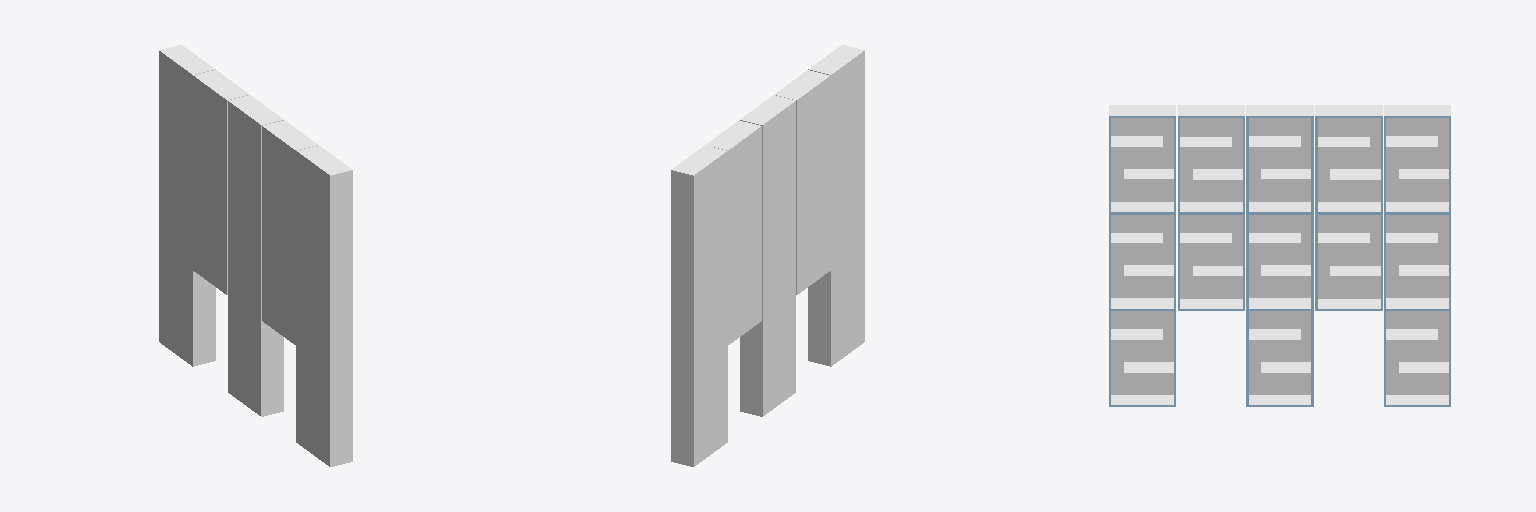
3 renders of one model, left to right at view 1: azimuth 30°, elevation 25°; view 2: azimuth 150°, elevation 25°; view 3: azimuth 270°, elevation 25°, orthographic.
Parts seen in each view (by area): view 1: 立方体.1_0_4, 立方体.1_0_2, 立方体.1_2_2, 立方体.1_1_4, 立方体.1_0_1, 立方体.1_1, 立方体.1_0, 立方体.1_1_3, 立方体.1_0_3, 立方体.1_2_1, 立方体.1_1_2, 立方体.1_1_1 (+4 smaller); view 2: 立方体.1_2_2, 立方体.1_2_1, 立方体.1_0_4, 立方体.1_2, 立方体.1_1_4, 立方体.1_0, 立方体.1_1, 立方体.1_0_3, 立方体.1_1_3, 立方体.1_1_2, 立方体.1_0_2, 立方体.1_0_1 (+4 smaller); view 3: 立方体.1_1, 立方体.1_0, 立方体.1_1_2, 立方体.1_2_1, 立方体.1_0_2, 立方体.1_1_3, 立方体.1_1_4, 立方体.1_0_3, 立方体.1_0_4, 立方体.1_2_2, 立方体.1_1_1, 立方体.1_0_1 (+4 smaller).
Part boxes in pixels (bbox=[...]): 立方体.1_0_4: bbox=[296, 346, 352, 466]; 立方体.1_0_2: bbox=[296, 249, 352, 369]; 立方体.1_2_2: bbox=[159, 244, 215, 366]; 立方体.1_1_4: bbox=[228, 294, 283, 416]; 立方体.1_0_1: bbox=[296, 145, 352, 273]; 立方体.1_1: bbox=[193, 70, 249, 198]; 立方体.1_0: bbox=[262, 120, 317, 248]; 立方体.1_1_3: bbox=[193, 173, 227, 294]; 立方体.1_0_3: bbox=[262, 223, 295, 344]; 立方体.1_2_1: bbox=[159, 148, 192, 268]; 立方体.1_1_2: bbox=[228, 200, 261, 319]; 立方体.1_1_1: bbox=[228, 95, 283, 223]; 立方体.1_2_2: bbox=[671, 345, 727, 466]; 立方体.1_2_1: bbox=[671, 248, 727, 369]; 立方体.1_0_4: bbox=[808, 245, 864, 366]; 立方体.1_2: bbox=[671, 145, 727, 273]; 立方体.1_1_4: bbox=[740, 295, 795, 416]; 立方体.1_0: bbox=[774, 70, 830, 196]; 立方体.1_1: bbox=[706, 121, 761, 248]; 立方体.1_0_3: bbox=[796, 172, 830, 294]; 立方体.1_1_3: bbox=[728, 225, 761, 344]; 立方体.1_1_2: bbox=[762, 198, 795, 319]; 立方体.1_0_2: bbox=[831, 148, 864, 268]; 立方体.1_0_1: bbox=[808, 45, 864, 172]; 立方体.1_1: bbox=[1315, 105, 1382, 214]; 立方体.1_0: bbox=[1178, 105, 1244, 214]; 立方体.1_1_2: bbox=[1246, 202, 1313, 310]; 立方体.1_2_1: bbox=[1384, 202, 1450, 310]; 立方体.1_0_2: bbox=[1109, 202, 1175, 310]; 立方体.1_1_3: bbox=[1315, 212, 1382, 310]; 立方体.1_1_4: bbox=[1246, 311, 1313, 406]; 立方体.1_0_3: bbox=[1178, 212, 1244, 310]; 立方体.1_0_4: bbox=[1109, 311, 1175, 406]; 立方体.1_2_2: bbox=[1384, 311, 1450, 406]; 立方体.1_1_1: bbox=[1246, 105, 1313, 213]; 立方体.1_0_1: bbox=[1109, 105, 1175, 213].
Size of the model in its own units: 84.41 by 1027 by 1094.